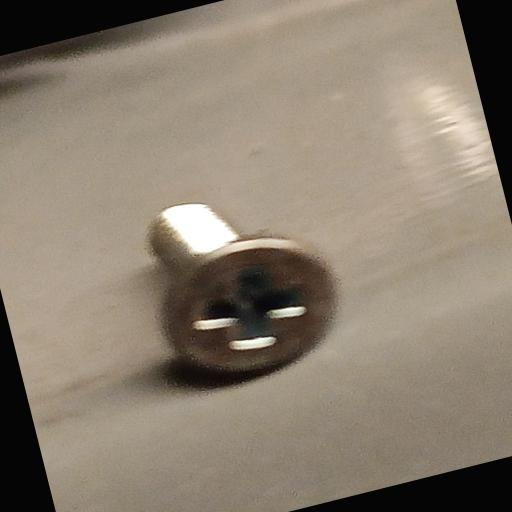Phillips: (137, 202, 368, 407)
